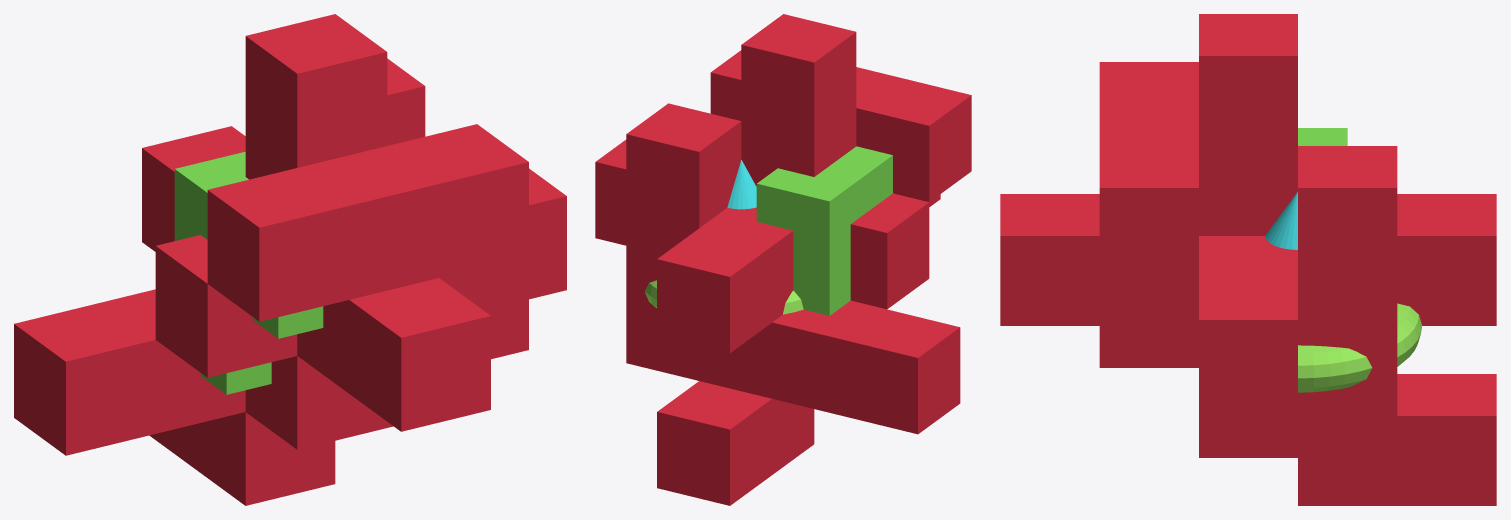
The picture shows the model from 3 angles, left to right: view 1: azimuth 30°, elevation 25°; view 2: azimuth 150°, elevation 25°; view 3: azimuth 270°, elevation 25°; orthographic projection. The views are drawn at different scales.
Parts seen in each view (by area): view 1: Random, Cube; view 2: Random, Cube, Cone, Torus; view 3: Random, Torus, Cone, Cube.
Boxes of the visible parts, x1=… form: Random: x1=14, y1=14, x2=566, y2=505; Cube: x1=174, y1=151, x2=323, y2=394; Random: x1=595, y1=14, x2=971, y2=505; Cube: x1=756, y1=146, x2=892, y2=315; Cone: x1=727, y1=160, x2=756, y2=209; Torus: x1=644, y1=280, x2=803, y2=314; Random: x1=1000, y1=14, x2=1496, y2=505; Torus: x1=1298, y1=303, x2=1422, y2=392; Cone: x1=1265, y1=191, x2=1297, y2=249; Cube: x1=1298, y1=128, x2=1347, y2=145.
Bounding box in the file's own units: 500 × 500 × 500.
